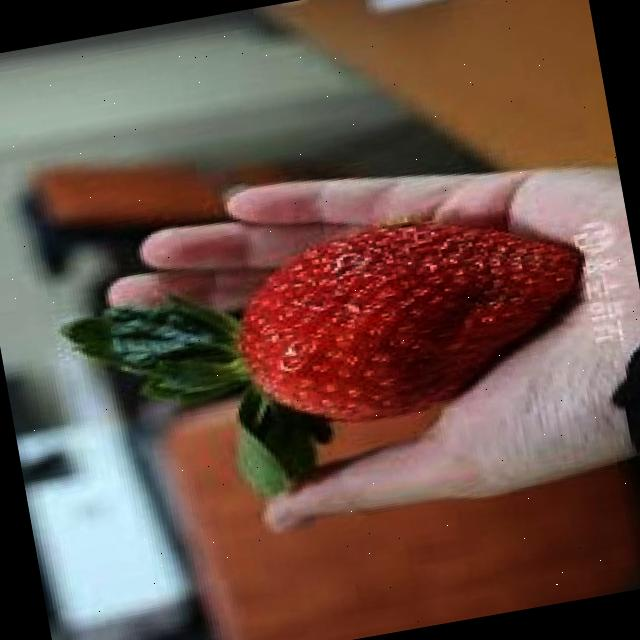strawberry: (220, 192, 604, 442)
